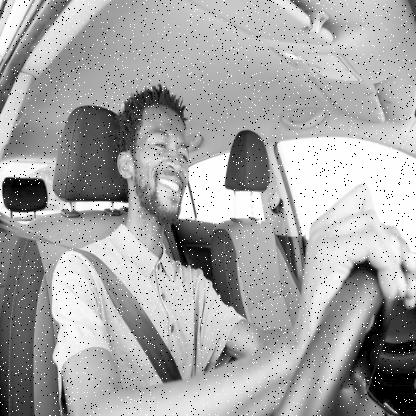seatbelt: (0, 74, 206, 416)
